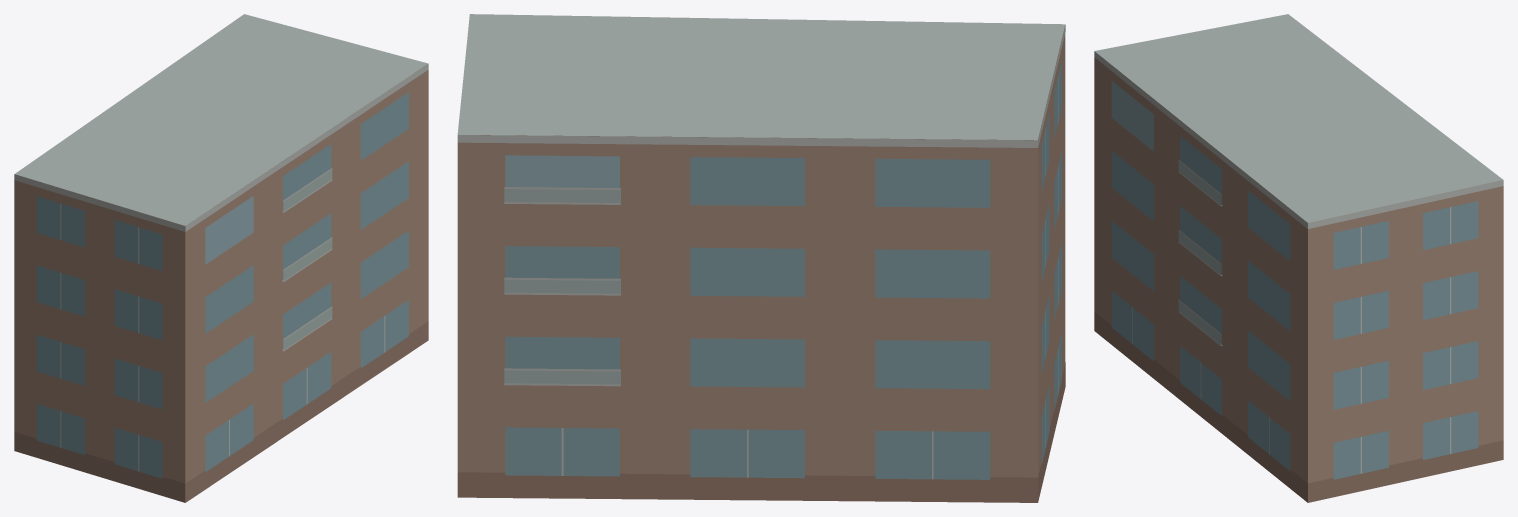
File: survey-upis-32746998.glb
The picture shows the model from 3 angles, left to right: view 1: azimuth 30°, elevation 25°; view 2: azimuth 150°, elevation 25°; view 3: azimuth 270°, elevation 25°; orthographic projection. The views are drawn at different scales.
Parts seen in each view (by area): view 1: survey-upis-32746998.tmp; view 2: survey-upis-32746998.tmp; view 3: survey-upis-32746998.tmp.
Part boxes in pixels (x1=…): survey-upis-32746998.tmp: x1=14, y1=14, x2=428, y2=502; survey-upis-32746998.tmp: x1=457, y1=14, x2=1065, y2=502; survey-upis-32746998.tmp: x1=1094, y1=14, x2=1503, y2=502.
Size of the model in its own units: 17.99 by 11.22 by 14.89.
